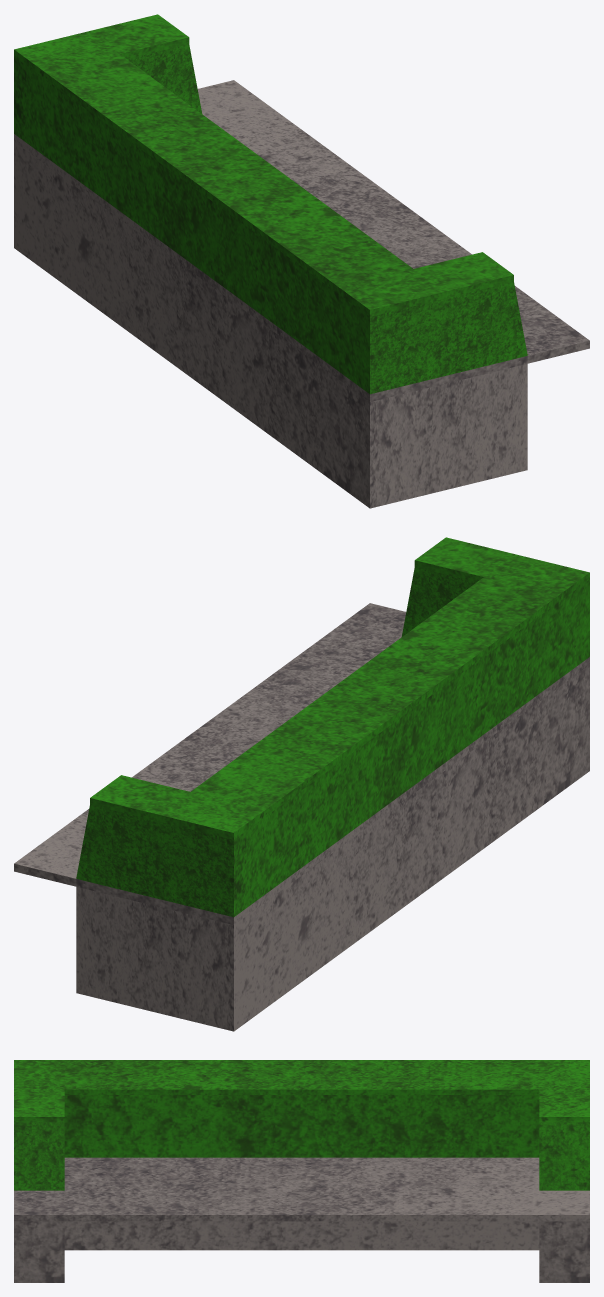
The model's file is Command_Center_Desk.fbx.
The picture shows the model from 3 angles, top to bottom: view 1: azimuth 30°, elevation 25°; view 2: azimuth 150°, elevation 25°; view 3: azimuth 270°, elevation 25°; orthographic projection. The views are drawn at different scales.
Visible parts, largest first — view 1: pCube1; view 2: pCube1; view 3: pCube1.
Boxes of the visible parts, bbox=[...] form: pCube1: bbox=[14, 14, 589, 508]; pCube1: bbox=[14, 537, 589, 1031]; pCube1: bbox=[14, 1060, 589, 1282].
Size of the model in its own units: 4.1 by 3.54 by 11.5.
